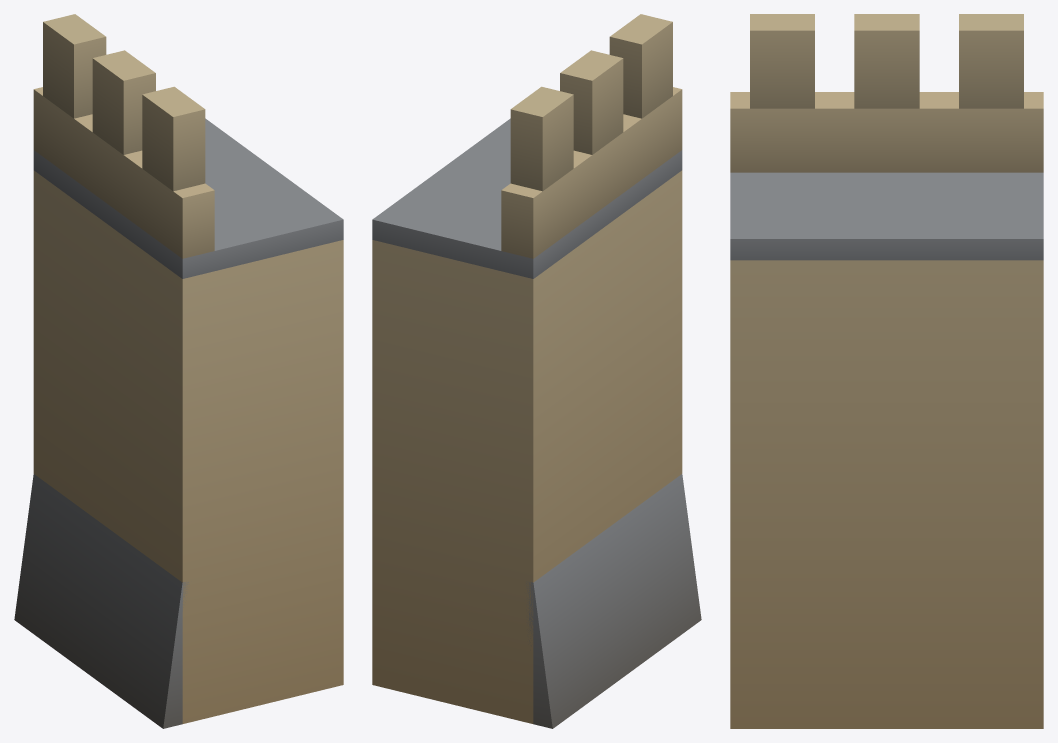
The model's file is west-curtain-bay-4000.glb.
The picture shows the model from 3 angles, left to right: view 1: azimuth 30°, elevation 25°; view 2: azimuth 150°, elevation 25°; view 3: azimuth 270°, elevation 25°; orthographic projection. The views are drawn at different scales.
Visible parts, largest first — view 1: Mesh_Body, Mesh_BatteredBase, Mesh_WalkDeck, Mesh_Breastwork, Mesh_Merlon_3, Mesh_Merlon_2, Mesh_Merlon_1; view 2: Mesh_Body, Mesh_BatteredBase, Mesh_WalkDeck, Mesh_Breastwork, Mesh_Merlon_1, Mesh_Merlon_2, Mesh_Merlon_3; view 3: Mesh_Body, Mesh_WalkDeck, Mesh_Breastwork, Mesh_Merlon_2, Mesh_Merlon_1, Mesh_Merlon_3.
Part boxes in pixels (<box>): Mesh_Body: <box>33,170,343,723</box>; Mesh_BatteredBase: <box>14,474,189,728</box>; Mesh_WalkDeck: <box>33,118,343,278</box>; Mesh_Breastwork: <box>33,87,214,258</box>; Mesh_Merlon_3: <box>142,86,205,191</box>; Mesh_Merlon_2: <box>92,50,155,154</box>; Mesh_Merlon_1: <box>43,14,106,118</box>; Mesh_Body: <box>372,170,682,723</box>; Mesh_BatteredBase: <box>526,474,701,728</box>; Mesh_WalkDeck: <box>372,118,682,278</box>; Mesh_Breastwork: <box>501,87,682,258</box>; Mesh_Merlon_1: <box>510,86,573,191</box>; Mesh_Merlon_2: <box>560,50,623,154</box>; Mesh_Merlon_3: <box>609,14,672,118</box>; Mesh_Body: <box>730,260,1043,728</box>; Mesh_WalkDeck: <box>730,172,1043,260</box>; Mesh_Breastwork: <box>730,92,1043,172</box>; Mesh_Merlon_2: <box>854,14,919,108</box>; Mesh_Merlon_1: <box>959,14,1023,108</box>; Mesh_Merlon_3: <box>750,14,814,108</box>.
Bounding box in the file's own units: 2.8 × 8.9 × 4.
